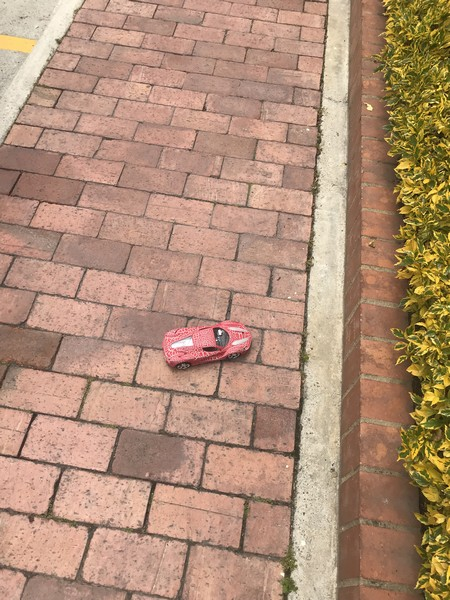RC: (162, 321, 254, 371)
